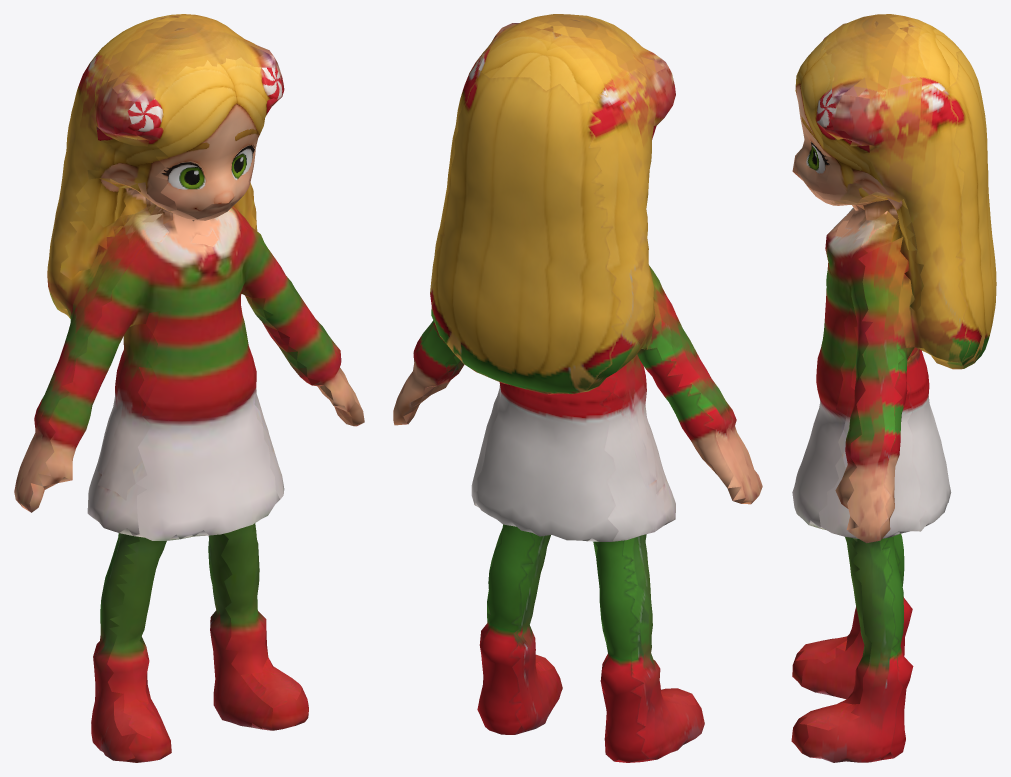
The model's file is holly-toon-x5.glb.
The picture shows the model from 3 angles, left to right: view 1: azimuth 30°, elevation 25°; view 2: azimuth 150°, elevation 25°; view 3: azimuth 270°, elevation 25°; orthographic projection. The views are drawn at different scales.
Parts seen in each view (by area): view 1: world; view 2: world; view 3: world.
Boxes of the visible parts, x1,y1,x2,y2 form: world: (14,14,364,762); world: (393,14,762,762); world: (791,14,996,762).
Bounding box in the file's own units: 2.44 × 4.72 × 1.25.
Materials: 1 (1 with a texture image).
